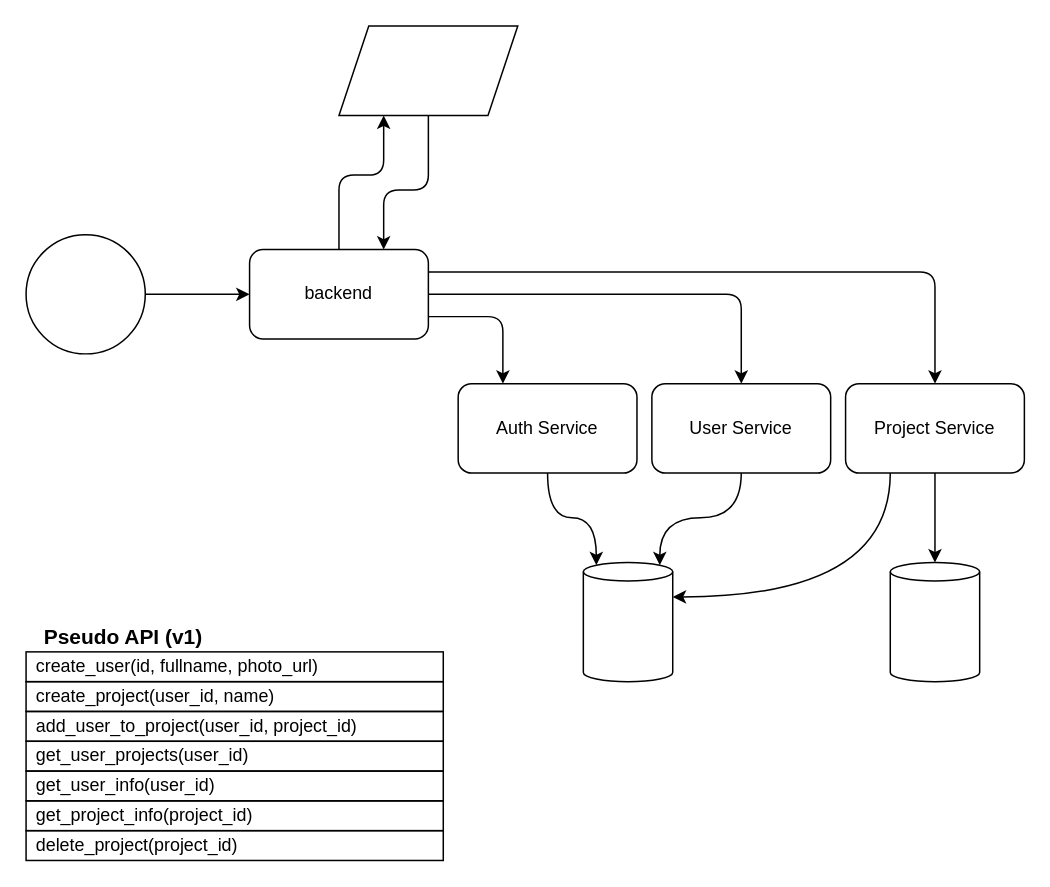
Image size: 1050x887. Some labels were removed from this diagram. Each missing label, with the box of its shape:
client: (25, 233, 145, 354)
Google OAuth Service: (337, 25, 518, 115)
project: (889, 561, 980, 682)
user: (582, 561, 673, 682)
